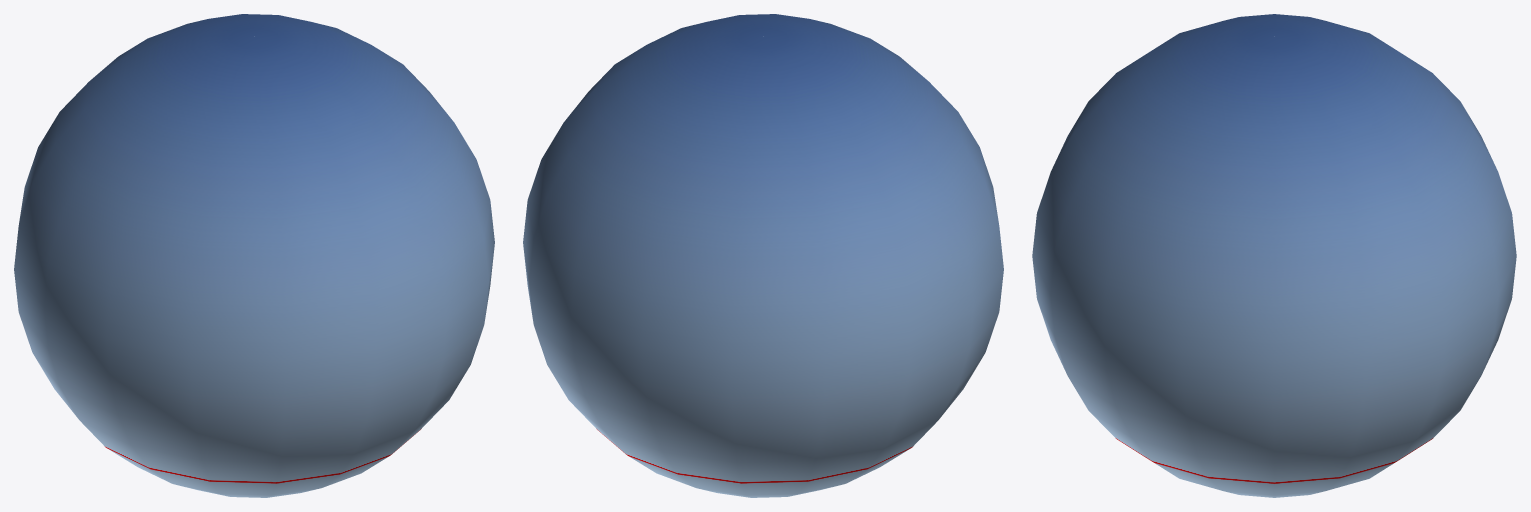
File: skydome_Simple.glb
The picture shows the model from 3 angles, left to right: view 1: azimuth 30°, elevation 25°; view 2: azimuth 150°, elevation 25°; view 3: azimuth 270°, elevation 25°; orthographic projection.
Parts seen in each view (by area): view 1: Sphere; view 2: Sphere; view 3: Sphere.
Part boxes in pixels (x1=…): Sphere: x1=14, y1=14, x2=494, y2=497; Sphere: x1=523, y1=14, x2=1003, y2=497; Sphere: x1=1032, y1=14, x2=1516, y2=497.
Size of the model in its own units: 2 by 2 by 2.
Materials: 1 (1 with a texture image).
